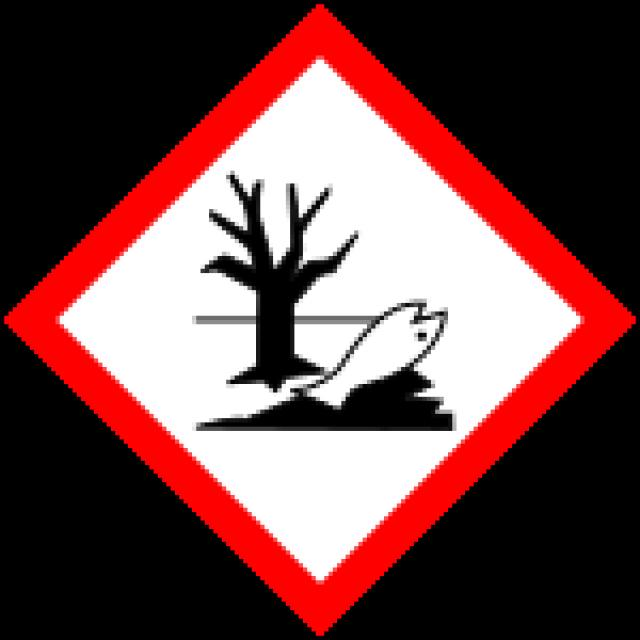GHS09- Hazardous to the Environment: (4, 4, 640, 640)
